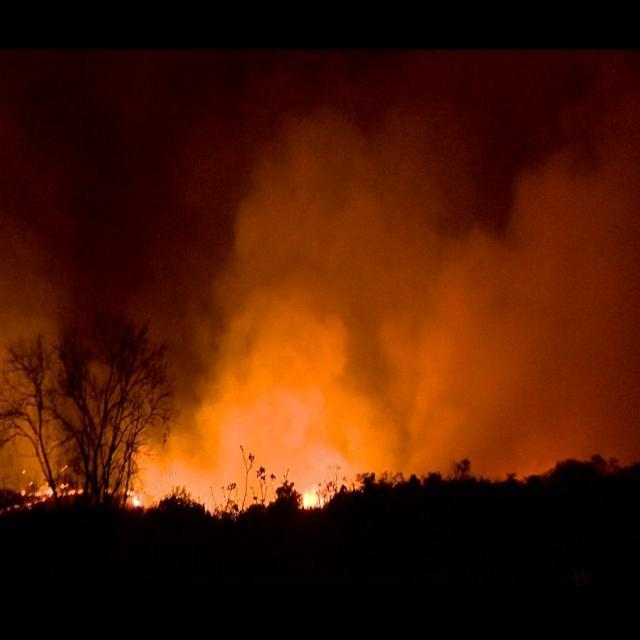Fire: (5, 468, 80, 512), (304, 484, 326, 510), (124, 484, 142, 508)
